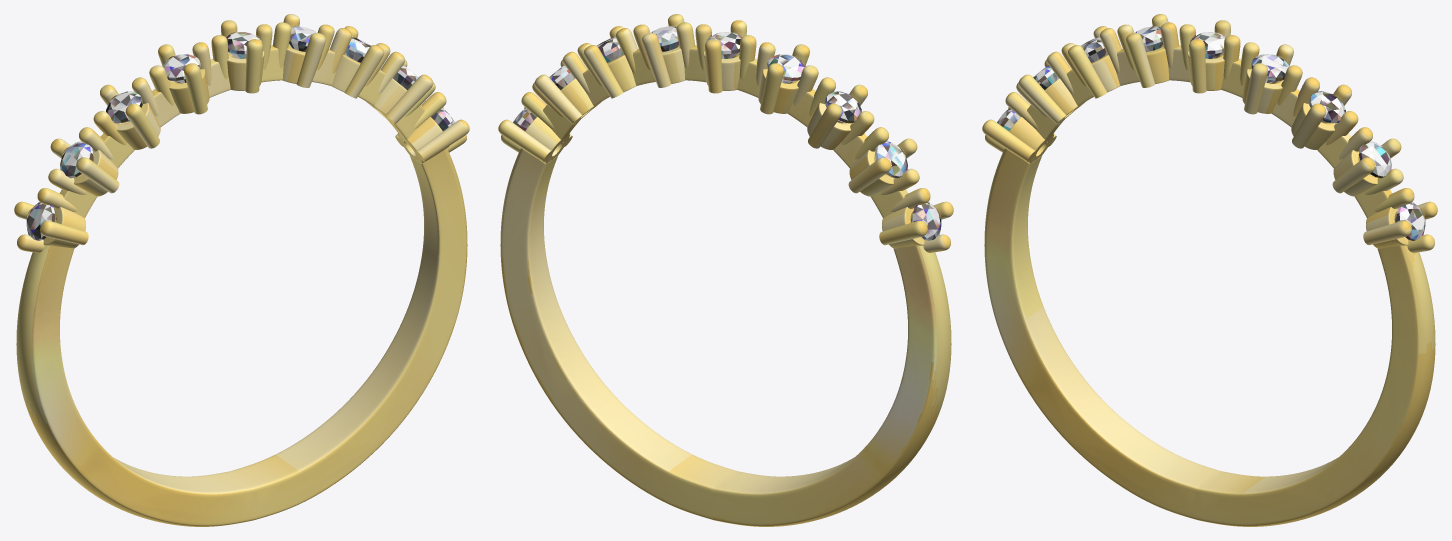
Rendered from demo5.glb.
The picture shows the model from 3 angles, left to right: view 1: azimuth 30°, elevation 25°; view 2: azimuth 150°, elevation 25°; view 3: azimuth 330°, elevation 25°; orthographic projection.
Parts seen in each view (by area): view 1: zaoxiang; view 2: zaoxiang; view 3: zaoxiang.
Part boxes in pixels (box(x1,y1,x2,y2)): zaoxiang: box(14, 14, 469, 526); zaoxiang: box(498, 14, 953, 526); zaoxiang: box(982, 14, 1437, 526).
Size of the model in its own units: 19.5 by 20.22 by 2.56.
10 materials, 10 textured.
